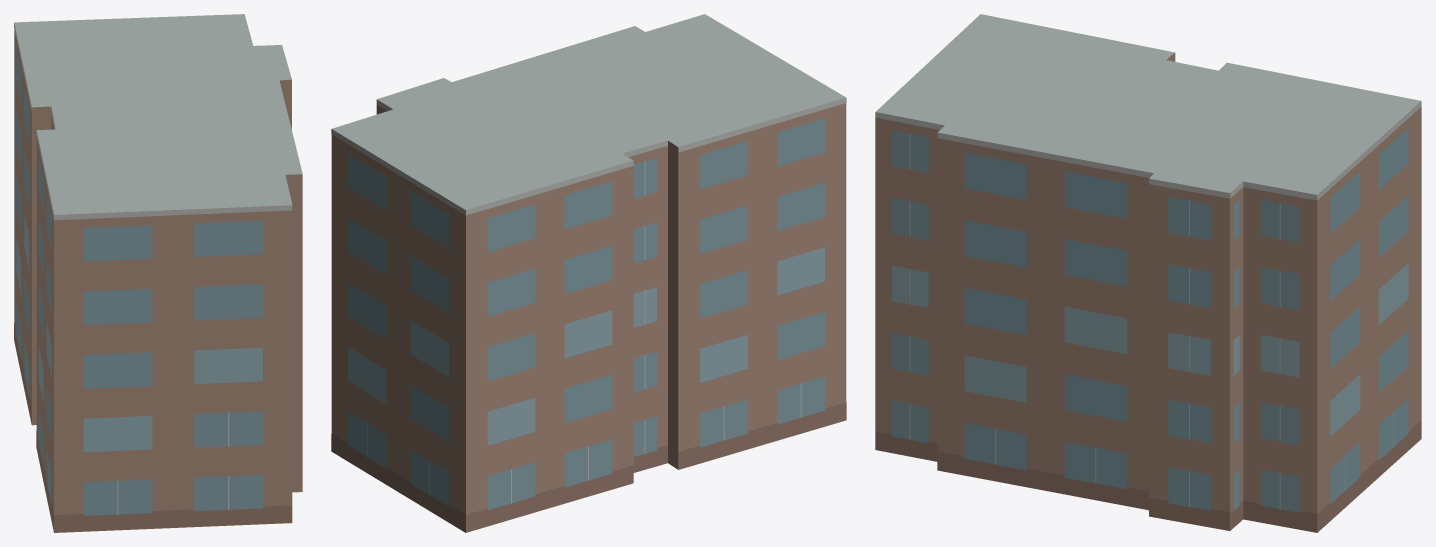
Rendered from survey-upis-32498397.glb.
The picture shows the model from 3 angles, left to right: view 1: azimuth 30°, elevation 25°; view 2: azimuth 150°, elevation 25°; view 3: azimuth 270°, elevation 25°; orthographic projection. The views are drawn at different scales.
Parts seen in each view (by area): view 1: survey-upis-32498397.tmp; view 2: survey-upis-32498397.tmp; view 3: survey-upis-32498397.tmp.
Boxes of the visible parts, box(x1,y1,x2,y2) form: survey-upis-32498397.tmp: box(14, 14, 302, 532); survey-upis-32498397.tmp: box(331, 14, 846, 532); survey-upis-32498397.tmp: box(875, 14, 1421, 532).
Size of the model in its own units: 16.89 by 14.7 by 21.54.
